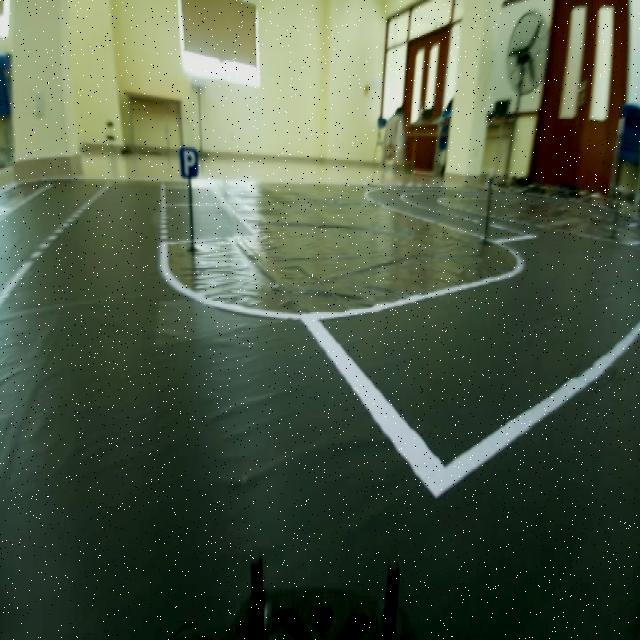parking: (174, 134, 204, 181)
